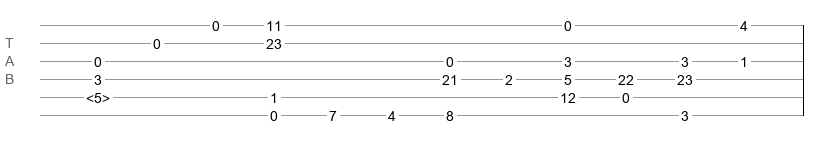0: (94, 54, 102, 64), (153, 36, 161, 46), (212, 18, 220, 28), (270, 108, 278, 118), (446, 54, 454, 64), (564, 18, 572, 28), (622, 90, 630, 100)
1: (270, 90, 278, 100), (740, 54, 748, 64)
11: (266, 18, 282, 28)
12: (560, 90, 576, 100)
2: (505, 72, 513, 82)
21: (442, 72, 458, 82)
22: (618, 72, 634, 82)
23: (266, 36, 282, 46), (677, 72, 693, 82)
3: (94, 72, 102, 82), (564, 54, 572, 64), (681, 108, 689, 118), (681, 54, 689, 64)
4: (388, 108, 396, 118), (740, 18, 748, 28)
5: (564, 72, 572, 82)
7: (329, 108, 337, 118)
8: (446, 108, 454, 118)
harmonic: (86, 90, 110, 100)
